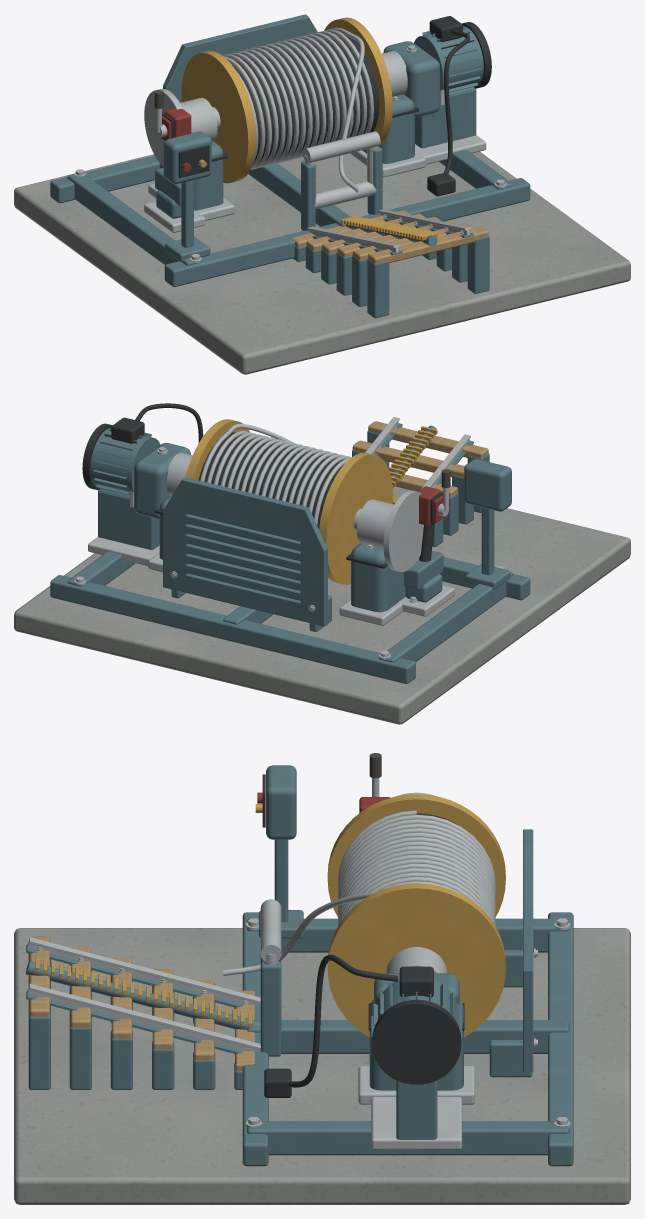
The model's file is gorgehold-survivor-gallery-and-operations-inclined-car-b7fb9006__32848.glb.
The picture shows the model from 3 angles, top to bottom: view 1: azimuth 30°, elevation 25°; view 2: azimuth 150°, elevation 25°; view 3: azimuth 270°, elevation 25°; orthographic projection. The views are drawn at different scales.
Visible parts, largest first — view 1: inclined-cargo-railway-drive-station; view 2: inclined-cargo-railway-drive-station; view 3: inclined-cargo-railway-drive-station.
Boxes of the visible parts, x1,y1,x2,y2 form: inclined-cargo-railway-drive-station: (14,14,630,374); inclined-cargo-railway-drive-station: (14,403,630,724); inclined-cargo-railway-drive-station: (14,765,630,1204).
Size of the model in its own units: 3.5 by 1.54 by 3.6.
8 materials, 7 textured.
